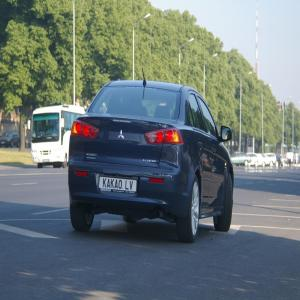Vehicle-registration-plate: (99, 177, 140, 196)
